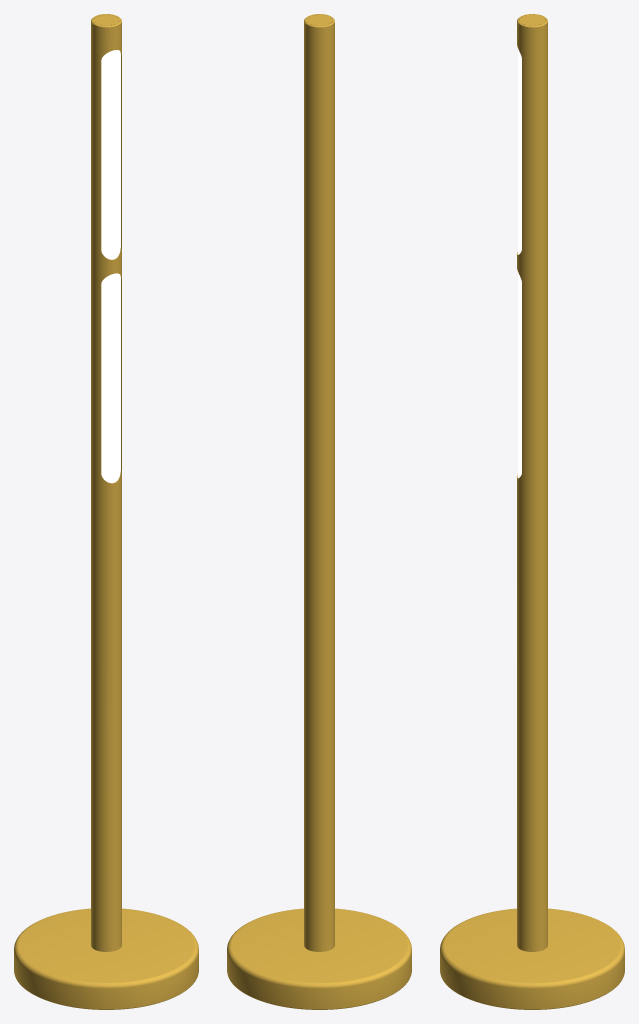
Rendered from arevik_holtun.glb.
The picture shows the model from 3 angles, left to right: view 1: azimuth 30°, elevation 25°; view 2: azimuth 150°, elevation 25°; view 3: azimuth 270°, elevation 25°; orthographic projection.
Parts seen in each view (by area): view 1: Assem STAND V2 - Pipe - 12pd2001001-06-03-1, Assem STAND V2 - Base stand - 12pd2001001-01-03-1, Assem STAND V2 - Plaxy - 12pd2001001-11-03-1; view 2: Assem STAND V2 - Pipe - 12pd2001001-06-03-1, Assem STAND V2 - Base stand - 12pd2001001-01-03-1; view 3: Assem STAND V2 - Pipe - 12pd2001001-06-03-1, Assem STAND V2 - Base stand - 12pd2001001-01-03-1, Assem STAND V2 - Plaxy - 12pd2001001-11-03-1.
Boxes of the visible parts, <box> form: Assem STAND V2 - Pipe - 12pd2001001-06-03-1: <box>91,24,121,951</box>; Assem STAND V2 - Base stand - 12pd2001001-01-03-1: <box>14,908,198,1009</box>; Assem STAND V2 - Plaxy - 12pd2001001-11-03-1: <box>101,50,120,483</box>; Assem STAND V2 - Pipe - 12pd2001001-06-03-1: <box>304,24,334,951</box>; Assem STAND V2 - Base stand - 12pd2001001-01-03-1: <box>227,908,411,1009</box>; Assem STAND V2 - Pipe - 12pd2001001-06-03-1: <box>517,24,547,951</box>; Assem STAND V2 - Base stand - 12pd2001001-01-03-1: <box>440,908,624,1009</box>; Assem STAND V2 - Plaxy - 12pd2001001-11-03-1: <box>518,48,521,478</box>.
Size of the model in its own units: 1.29 by 7.33 by 1.29.
